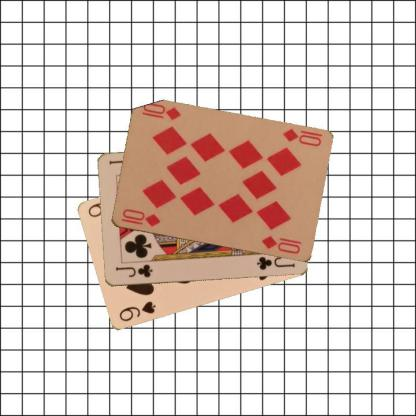10d: (118, 206, 162, 228), (280, 126, 324, 148)
9s: (116, 299, 157, 323)
Jc: (112, 262, 154, 279)
